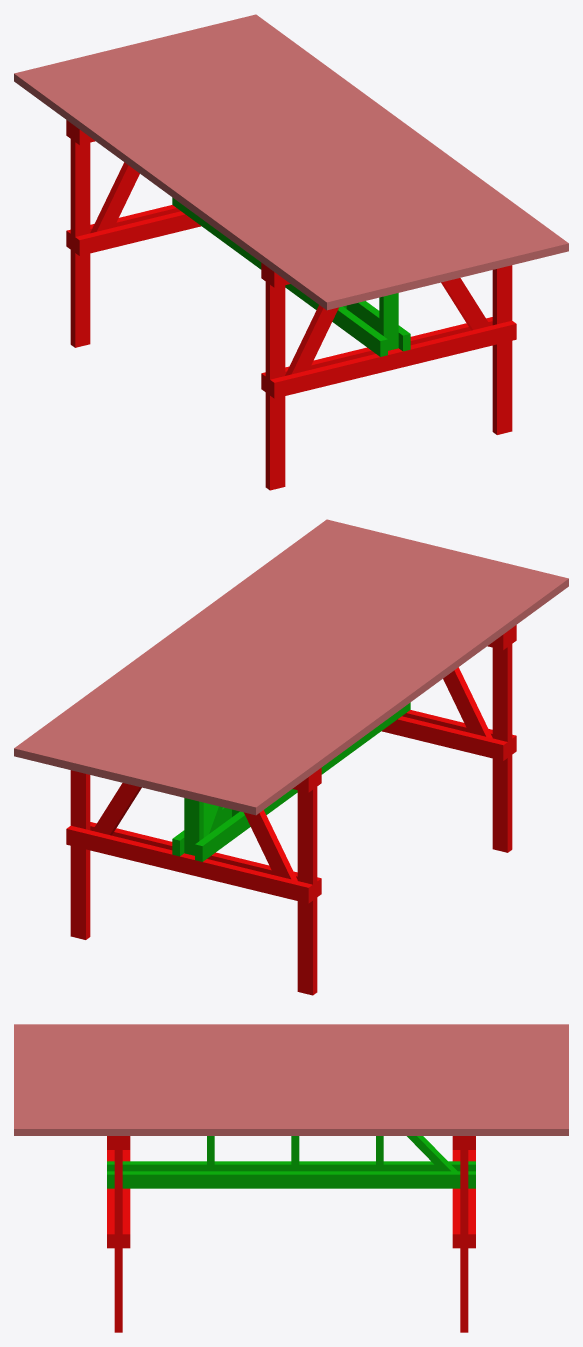
File: result.glb
3 views of the same model, one above another, from view 1: azimuth 30°, elevation 25°; view 2: azimuth 150°, elevation 25°; view 3: azimuth 270°, elevation 25° (orthographic). The views are drawn at different scales.
Parts seen in each view (by area): view 1: 95889826-5766-44ee-9b8e-068bc6189c01__Box, 05e6cf1f-0bce-429c-8eb2-a3120815bc90__sideH, 68ca132a-80b3-49e8-9366-cadbad947c6f__undefined, c034da87-d2c1-4562-98c7-4de237db994b__undefined, 6ef977b1-1658-47e7-a937-2159eb391cc8__undefined, 1d01c7d7-3907-4f0d-aea5-0cfcde59ea75__undefined, e51794bb-eac1-4621-8357-f998dfecebb0__undefined, ebc2e750-d31c-4501-9d94-a88bcea4b770__undefined, 63167ea9-b6aa-41fb-9e10-ccb9b07a9070__undefined, 44fe9308-bc49-4df0-a858-7ba8c95dc3ae__undefined, 26662639-81a1-4a0b-8f98-8f1460e2c598__undefined, 90c857c7-3caf-4e51-9d76-e3d0844c300d__undefined (+17 smaller); view 2: 95889826-5766-44ee-9b8e-068bc6189c01__Box, 9edd64c0-4d20-4472-83ad-0b2c7eccf0d6__undefined, 68ca132a-80b3-49e8-9366-cadbad947c6f__undefined, c034da87-d2c1-4562-98c7-4de237db994b__undefined, 6ef977b1-1658-47e7-a937-2159eb391cc8__undefined, 1d01c7d7-3907-4f0d-aea5-0cfcde59ea75__undefined, e51794bb-eac1-4621-8357-f998dfecebb0__undefined, ebc2e750-d31c-4501-9d94-a88bcea4b770__undefined, 63167ea9-b6aa-41fb-9e10-ccb9b07a9070__undefined, 44fe9308-bc49-4df0-a858-7ba8c95dc3ae__undefined, 26662639-81a1-4a0b-8f98-8f1460e2c598__undefined, 90c857c7-3caf-4e51-9d76-e3d0844c300d__undefined (+16 smaller); view 3: c7ecf6db-56f1-43af-aa6d-8d84f1716fc4__undefined, 89d5b201-5188-4445-b368-f84bced4d0a5__strutH, 8f4b514a-6fef-4c88-b402-c3572c3bf83f__undefined, dae6754b-6cb3-429b-b450-966bb613c079__undefined, c034da87-d2c1-4562-98c7-4de237db994b__undefined, 95889826-5766-44ee-9b8e-068bc6189c01__Box, 63167ea9-b6aa-41fb-9e10-ccb9b07a9070__undefined, ac59eb78-ab0b-415c-b215-7b2245f2d406__undefined, 6ef977b1-1658-47e7-a937-2159eb391cc8__undefined, 44fe9308-bc49-4df0-a858-7ba8c95dc3ae__undefined, 90c857c7-3caf-4e51-9d76-e3d0844c300d__undefined, 68ca132a-80b3-49e8-9366-cadbad947c6f__undefined (+13 smaller).
Boxes of the visible parts, x1,y1,x2,y2 form: 95889826-5766-44ee-9b8e-068bc6189c01__Box: (14,70,341,310); 05e6cf1f-0bce-429c-8eb2-a3120815bc90__sideH: (270,320,516,398); 68ca132a-80b3-49e8-9366-cadbad947c6f__undefined: (120,44,447,284); c034da87-d2c1-4562-98c7-4de237db994b__undefined: (165,33,493,273); 6ef977b1-1658-47e7-a937-2159eb391cc8__undefined: (75,55,402,295); 1d01c7d7-3907-4f0d-aea5-0cfcde59ea75__undefined: (181,29,508,269); e51794bb-eac1-4621-8357-f998dfecebb0__undefined: (196,25,523,265); ebc2e750-d31c-4501-9d94-a88bcea4b770__undefined: (226,18,553,258); 63167ea9-b6aa-41fb-9e10-ccb9b07a9070__undefined: (44,62,372,302); 44fe9308-bc49-4df0-a858-7ba8c95dc3ae__undefined: (90,51,417,291); 26662639-81a1-4a0b-8f98-8f1460e2c598__undefined: (211,22,538,262); 90c857c7-3caf-4e51-9d76-e3d0844c300d__undefined: (105,47,432,287); 95889826-5766-44ee-9b8e-068bc6189c01__Box: (241,575,568,815); 9edd64c0-4d20-4472-83ad-0b2c7eccf0d6__undefined: (66,825,312,903); 68ca132a-80b3-49e8-9366-cadbad947c6f__undefined: (135,549,462,789); c034da87-d2c1-4562-98c7-4de237db994b__undefined: (89,538,417,778); 6ef977b1-1658-47e7-a937-2159eb391cc8__undefined: (180,560,507,800); 1d01c7d7-3907-4f0d-aea5-0cfcde59ea75__undefined: (74,534,401,774); e51794bb-eac1-4621-8357-f998dfecebb0__undefined: (59,530,386,770); ebc2e750-d31c-4501-9d94-a88bcea4b770__undefined: (29,523,356,763); 63167ea9-b6aa-41fb-9e10-ccb9b07a9070__undefined: (210,567,538,807); 44fe9308-bc49-4df0-a858-7ba8c95dc3ae__undefined: (165,556,492,796); 26662639-81a1-4a0b-8f98-8f1460e2c598__undefined: (44,527,371,767); 90c857c7-3caf-4e51-9d76-e3d0844c300d__undefined: (150,552,477,792); c7ecf6db-56f1-43af-aa6d-8d84f1716fc4__undefined: (14,1122,568,1135); 89d5b201-5188-4445-b368-f84bced4d0a5__strutH: (107,1171,475,1188); 8f4b514a-6fef-4c88-b402-c3572c3bf83f__undefined: (14,1030,568,1037); dae6754b-6cb3-429b-b450-966bb613c079__undefined: (14,1076,568,1083); c034da87-d2c1-4562-98c7-4de237db994b__undefined: (14,1089,568,1096); 95889826-5766-44ee-9b8e-068bc6189c01__Box: (14,1024,568,1030); 63167ea9-b6aa-41fb-9e10-ccb9b07a9070__undefined: (14,1037,568,1043); ac59eb78-ab0b-415c-b215-7b2245f2d406__undefined: (14,1044,568,1050); 6ef977b1-1658-47e7-a937-2159eb391cc8__undefined: (14,1050,568,1056); 44fe9308-bc49-4df0-a858-7ba8c95dc3ae__undefined: (14,1057,568,1063); 90c857c7-3caf-4e51-9d76-e3d0844c300d__undefined: (14,1063,568,1069); 68ca132a-80b3-49e8-9366-cadbad947c6f__undefined: (14,1070,568,1076).
Bounding box in the file's own units: 800 × 725 × 1790.
